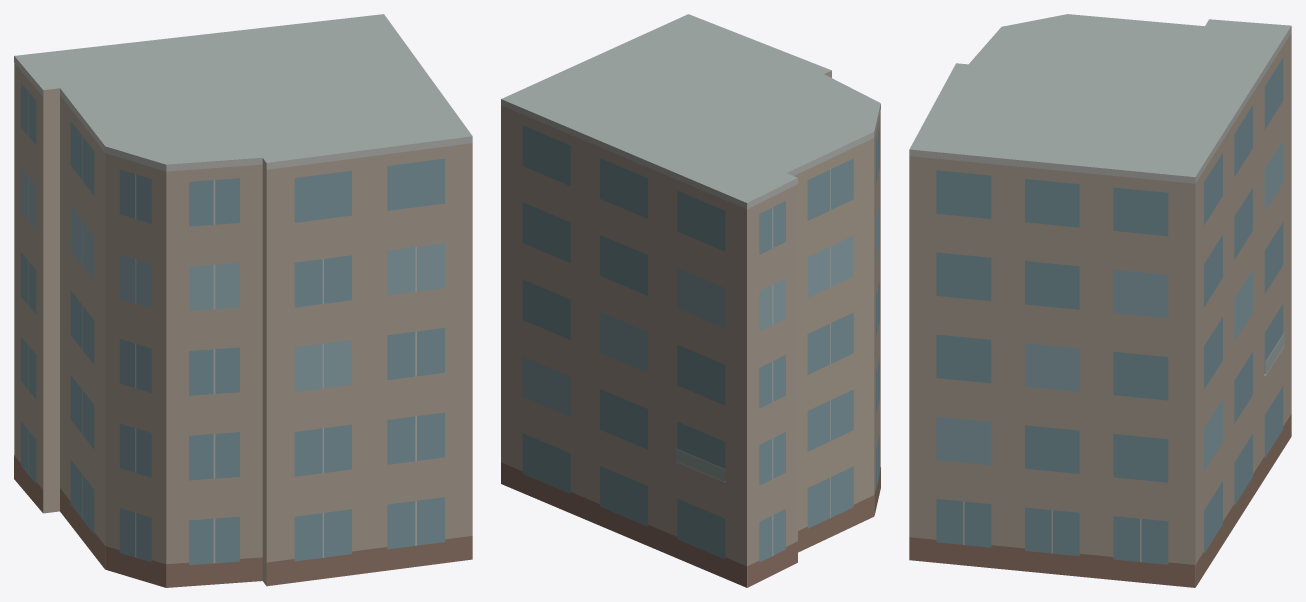
Rendered from survey-upis-32595780.glb.
3 renders of one model, left to right at view 1: azimuth 30°, elevation 25°; view 2: azimuth 150°, elevation 25°; view 3: azimuth 270°, elevation 25°, orthographic. The views are drawn at different scales.
Parts seen in each view (by area): view 1: survey-upis-32595780.tmp; view 2: survey-upis-32595780.tmp; view 3: survey-upis-32595780.tmp.
Part boxes in pixels (x1,y1,x2,y2): survey-upis-32595780.tmp: (14, 14, 472, 587); survey-upis-32595780.tmp: (501, 14, 880, 587); survey-upis-32595780.tmp: (909, 14, 1291, 587).
Size of the model in its own units: 12.88 by 15.1 by 12.75.
